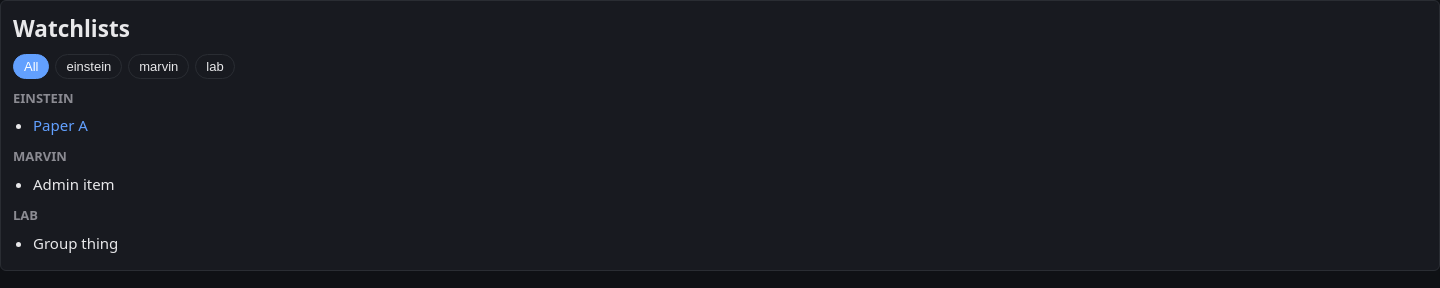
Test: WatchlistsPanel › filters items when a scope chip is clicked
What coordinates should you click on to do the following:
click the button with class "chip" showing "einstein"
I would click on:
 (89, 66)
Its box is top-left (56, 54), bottom-right (122, 79).
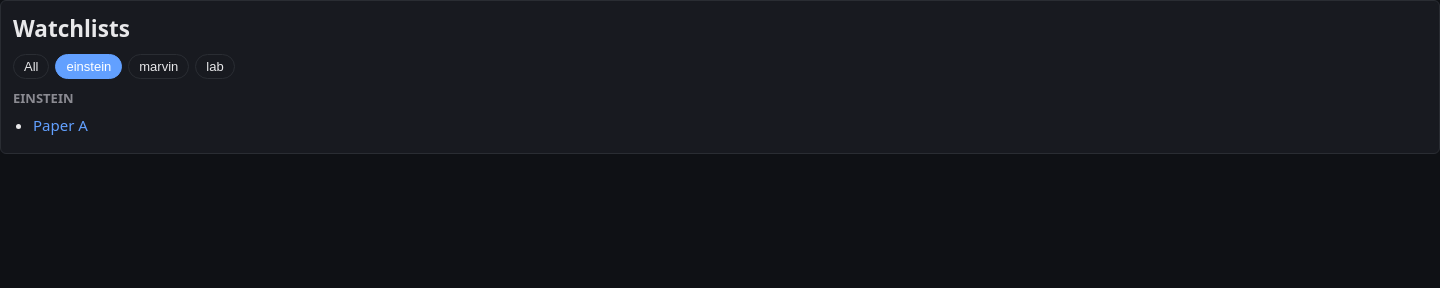
Expected: the link "Paper A" is shown, top-left (33, 116), bottom-right (88, 136)
Now the text "Admin item" is gone
Now the text "Group thing" is gone
